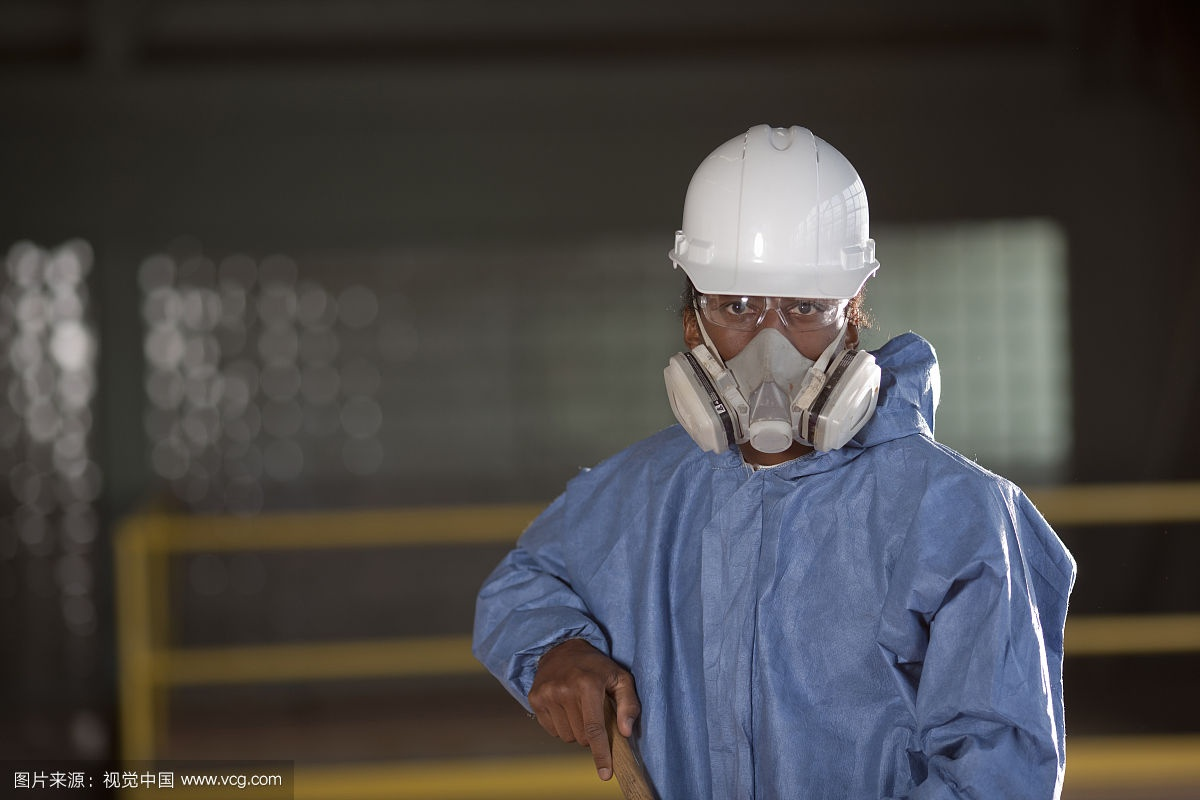white: (672, 118, 879, 428)
